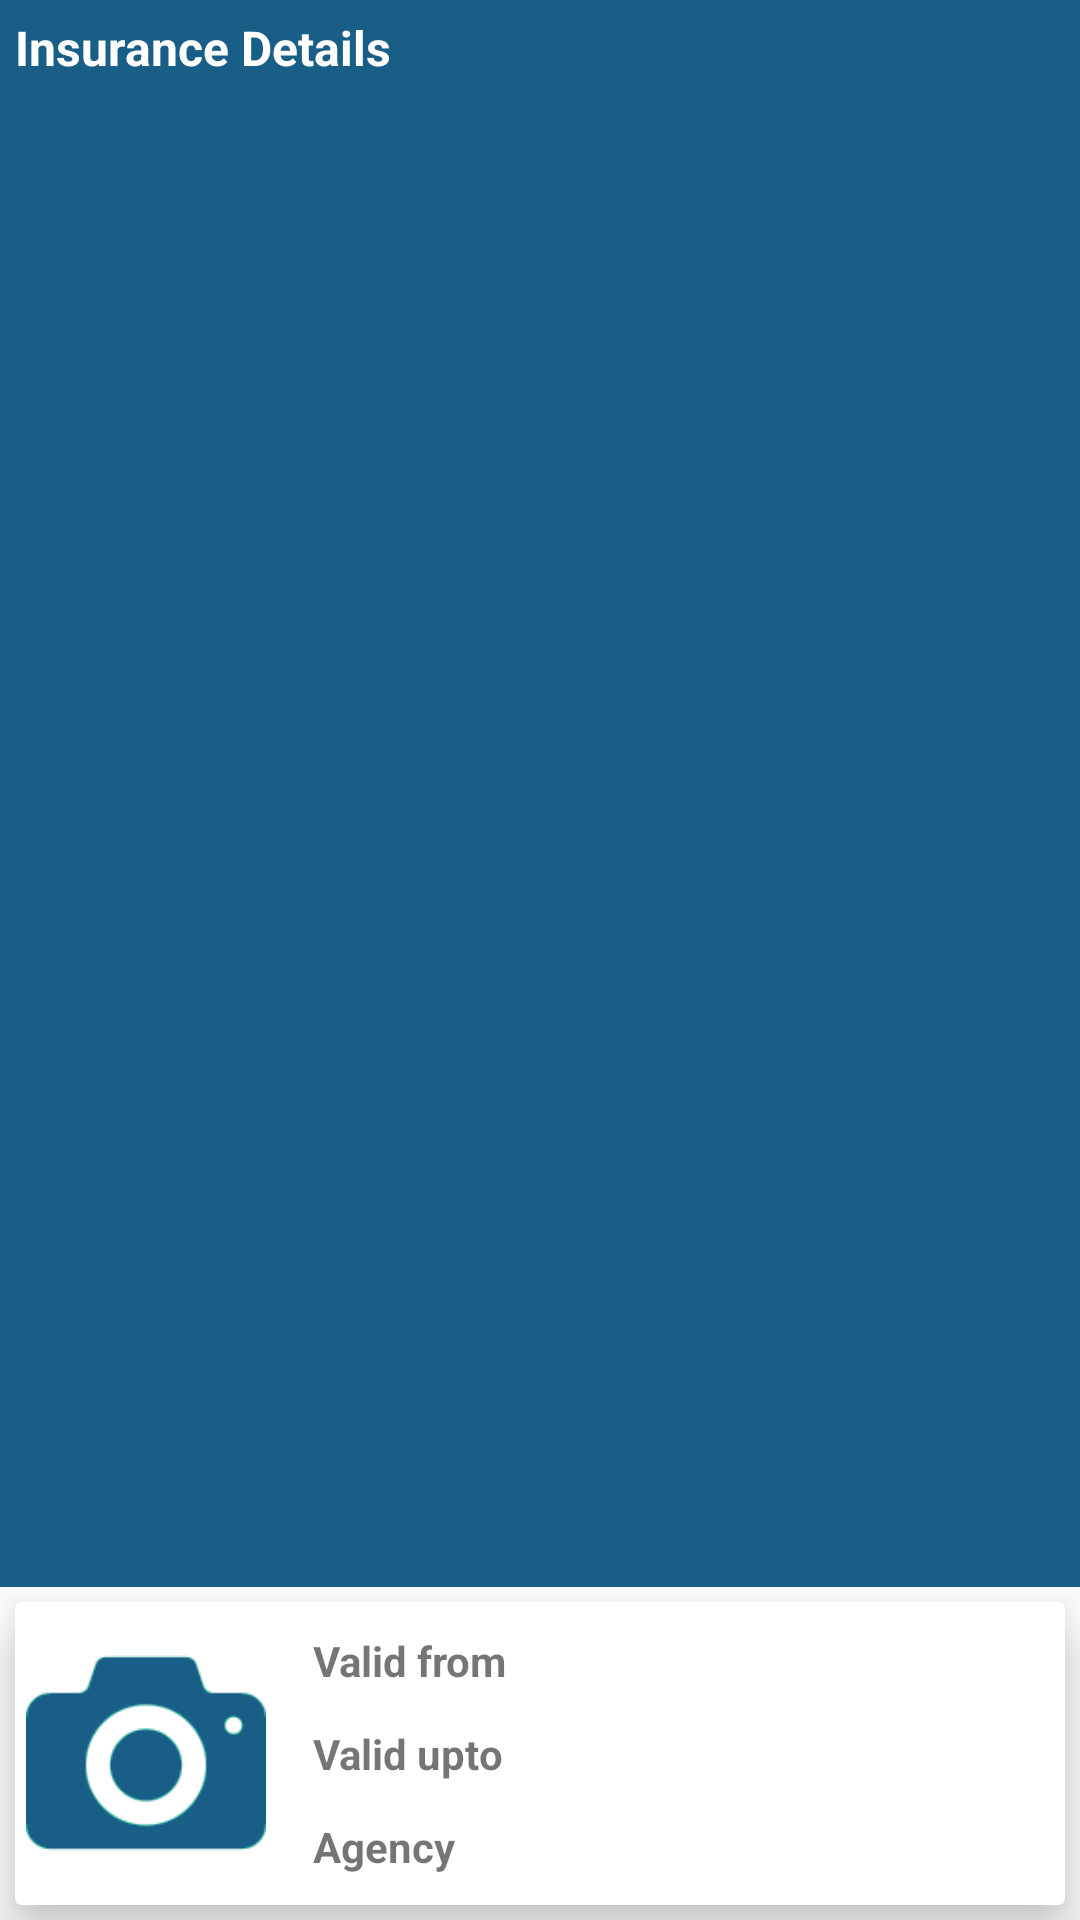

Screen size 1080x1920. Icon name, then its box in pixels as (left=x1, top=y1, right=x2, bottom=y2):
camera: (left=26, top=1655, right=266, bottom=1851)
